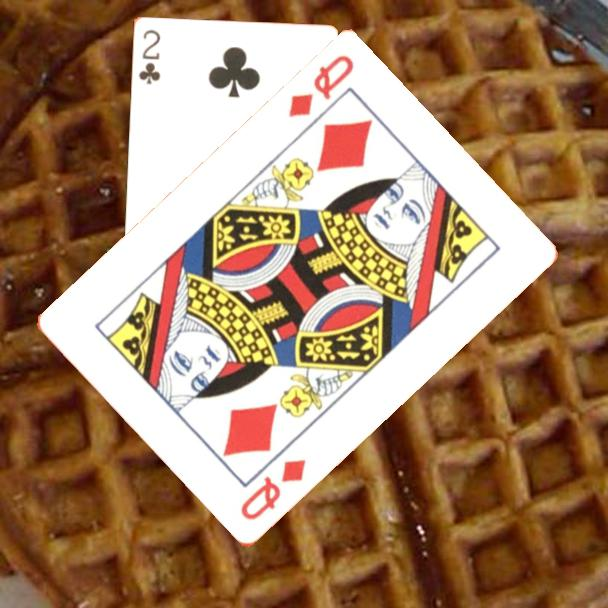c02: (135, 26, 163, 87)
d12: (284, 52, 357, 121), (236, 456, 310, 524)
